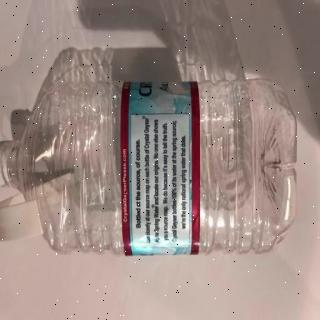Plastic-bottle: (2, 79, 302, 264)
